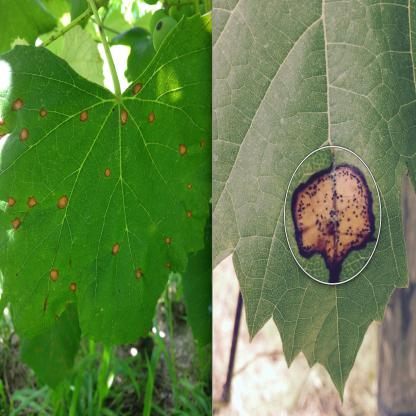grape leaf black rot: (0, 13, 210, 366)
